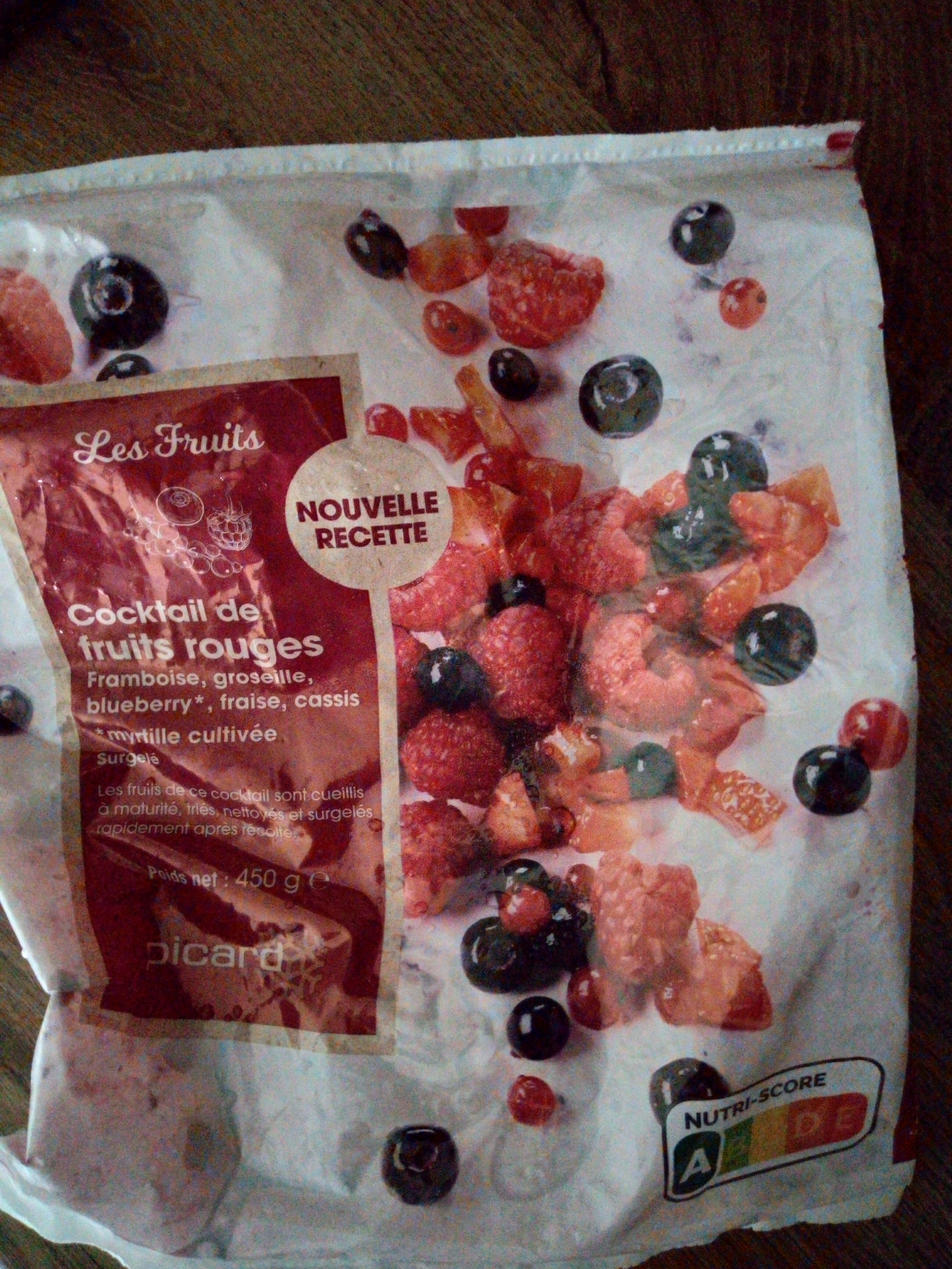Cocktail de fruits rouges: (48, 63, 904, 1206)
